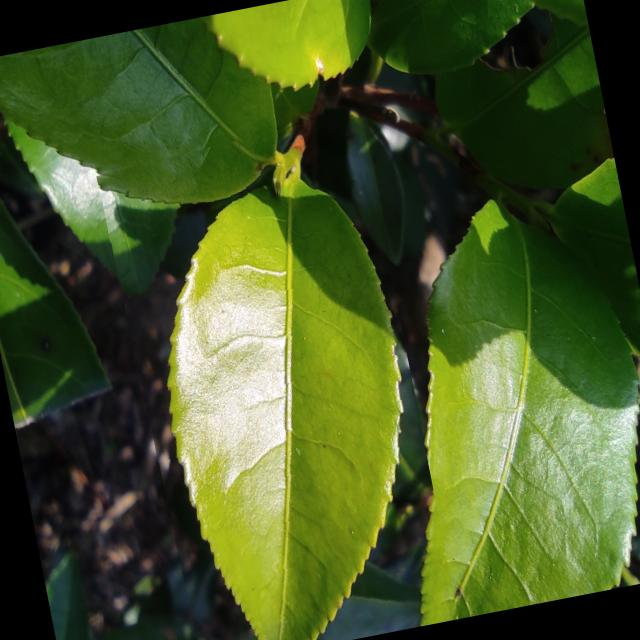Category B(2-4 days): (93, 108, 458, 640)
